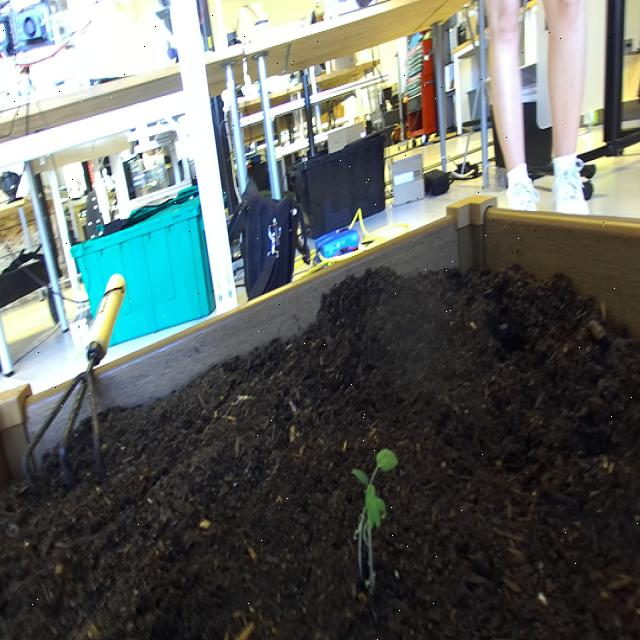Healthy: (339, 432, 403, 625)
